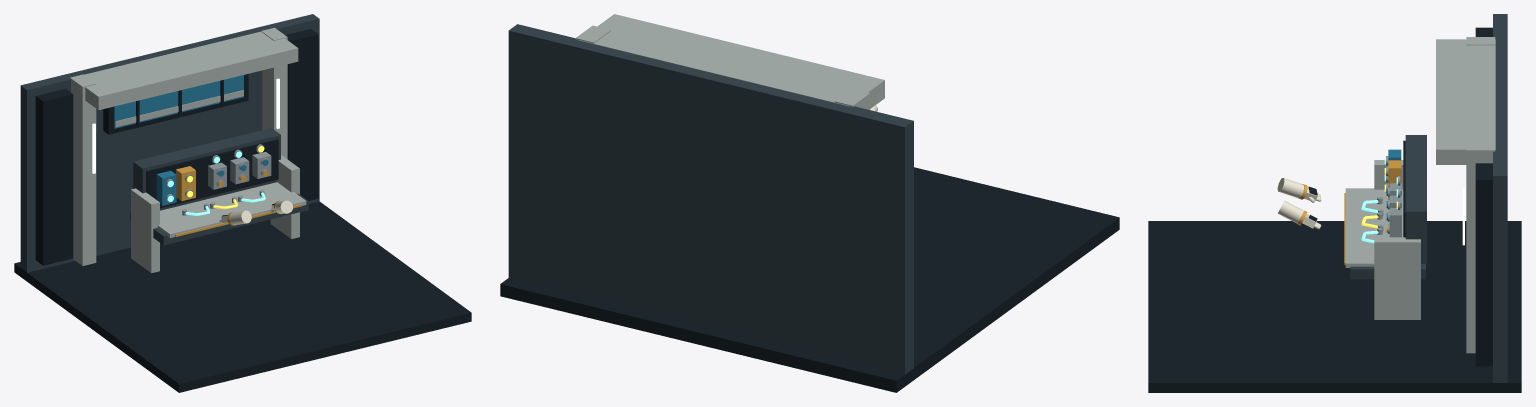
The model's file is 02-power.glb.
3 renders of one model, left to right at view 1: azimuth 30°, elevation 25°; view 2: azimuth 150°, elevation 25°; view 3: azimuth 270°, elevation 25°, orthographic. The views are drawn at different scales.
Parts seen in each view (by area): view 1: floor, aft-bulkhead, wall-recess (×2), ceiling-bulkhead, column (×2), side-console (×2), control-surface, instrument-face, instrument-housing, outside-color, battery-shell (×2), window-frame (+3 smaller); view 2: aft-bulkhead, floor, ceiling-bulkhead; view 3: floor, ceiling-bulkhead, aft-bulkhead, side-console (×2), wall-recess, control-surface, column, instrument-housing, sleeve (×2), center-desk, socket-panel.
Part boxes in pixels (x1=…): floor: x1=14, y1=201, x2=471, y2=392; aft-bulkhead: x1=20, y1=14, x2=319, y2=272; wall-recess (×2): x1=35, y1=29, x2=318, y2=265; ceiling-bulkhead: x1=84, y1=31, x2=298, y2=110; column (×2): x1=70, y1=27, x2=287, y2=265; side-console (×2): x1=131, y1=155, x2=299, y2=273; control-surface: x1=157, y1=182, x2=306, y2=237; instrument-face: x1=146, y1=139, x2=278, y2=208; instrument-housing: x1=133, y1=128, x2=280, y2=210; outside-color: x1=114, y1=75, x2=243, y2=128; battery-shell (×2): x1=156, y1=166, x2=195, y2=205; window-frame: x1=103, y1=74, x2=248, y2=134; aft-bulkhead: x1=508, y1=24, x2=913, y2=374; floor: x1=500, y1=167, x2=1119, y2=392; ceiling-bulkhead: x1=578, y1=14, x2=884, y2=108; floor: x1=1148, y1=221, x2=1521, y2=392; ceiling-bulkhead: x1=1436, y1=39, x2=1495, y2=164; aft-bulkhead: x1=1493, y1=14, x2=1507, y2=382; side-console (×2): x1=1374, y1=160, x2=1420, y2=319; wall-recess: x1=1475, y1=163, x2=1492, y2=366; control-surface: x1=1345, y1=188, x2=1403, y2=267; column: x1=1466, y1=142, x2=1495, y2=353; instrument-housing: x1=1405, y1=135, x2=1426, y2=263; sleeve (×2): x1=1277, y1=178, x2=1304, y2=223; center-desk: x1=1350, y1=264, x2=1425, y2=279; socket-panel: x1=1389, y1=208, x2=1401, y2=237.
Bounding box in the file's own units: 4.1 × 2.58 × 4.
